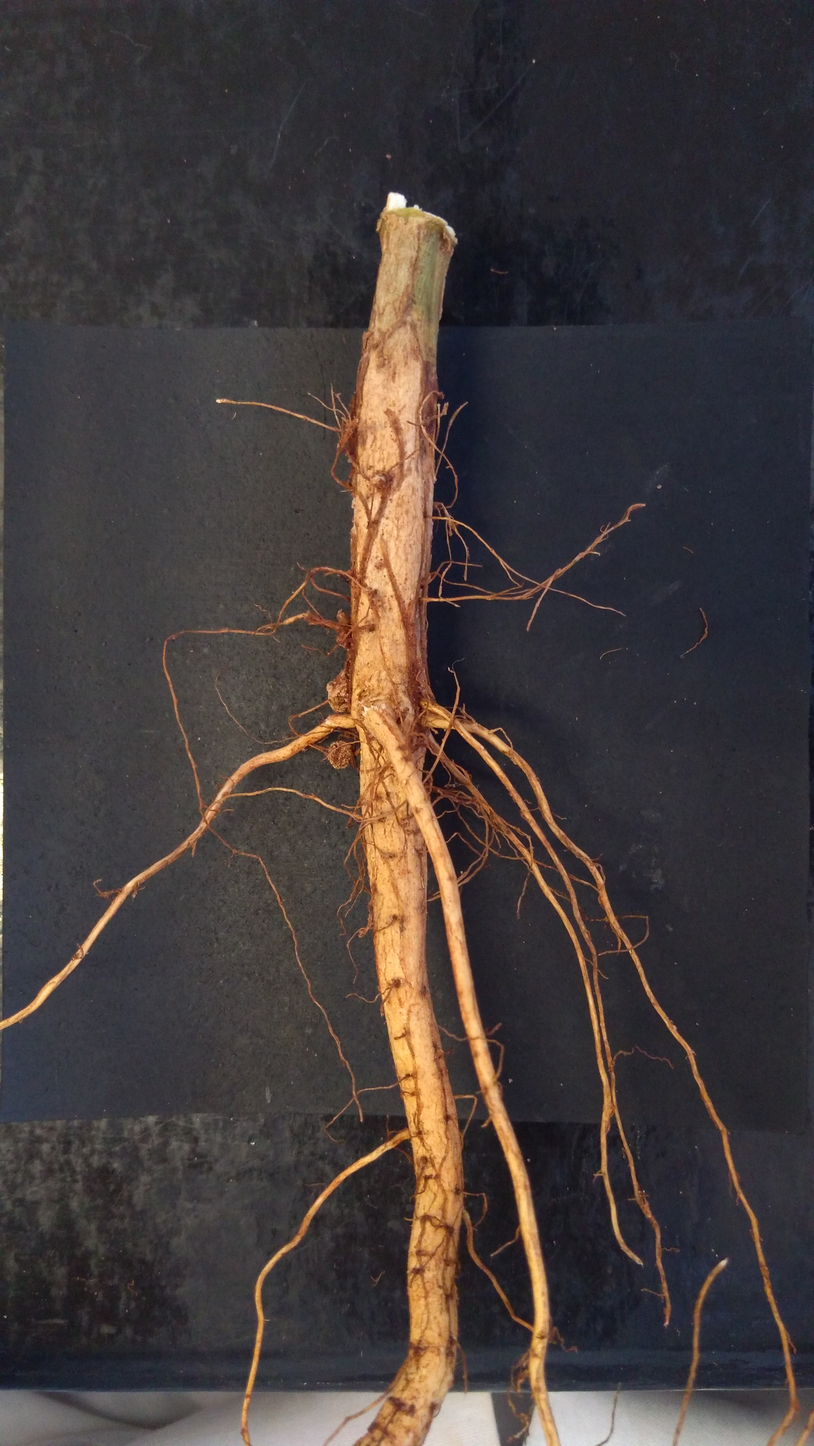nodule: (324, 669, 351, 714), (335, 610, 354, 651), (327, 740, 352, 771), (370, 473, 387, 489), (341, 727, 360, 740), (346, 453, 355, 464), (357, 930, 365, 939), (351, 497, 356, 509)
